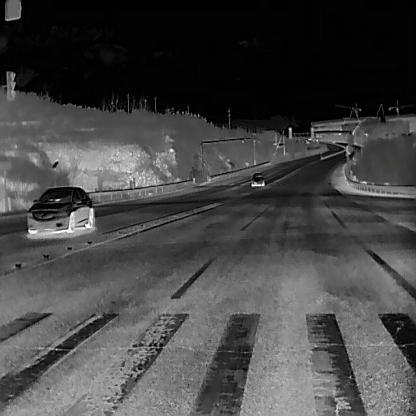car: (26, 185, 94, 233), (250, 171, 265, 187), (345, 144, 351, 154), (331, 137, 335, 143)
